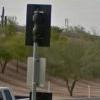Traffic light: (22, 0, 55, 52)
